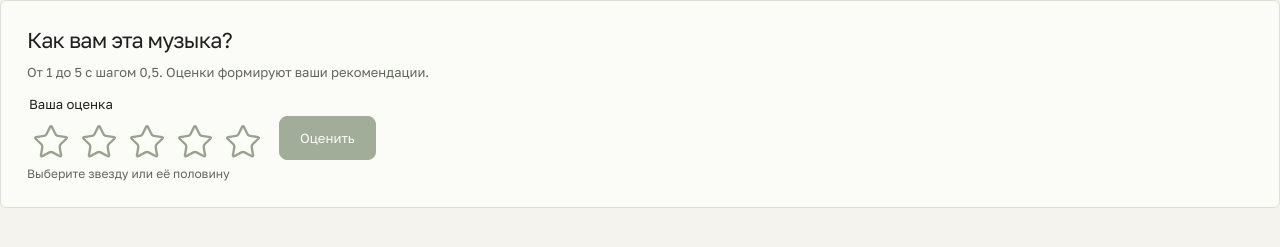
it: sends a numeric half-step and invalidates catalog, recommendations and reviews
Click the radio button named "4.5 из 5".
click(231, 142)  # box [219,118,243,166]
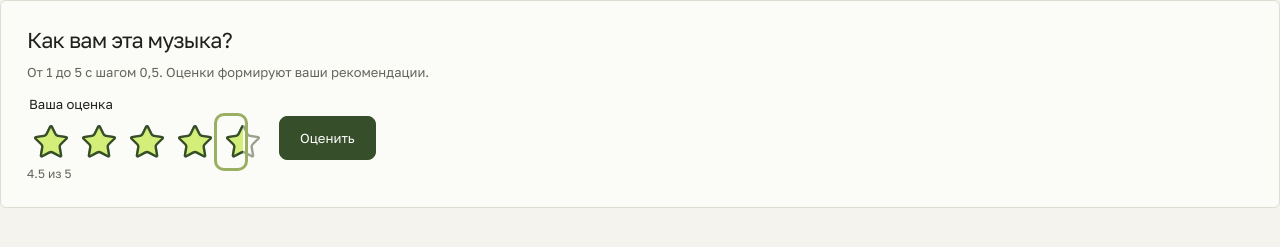
Click the button "Оценить".
click(327, 138)  # box [279,116,376,160]
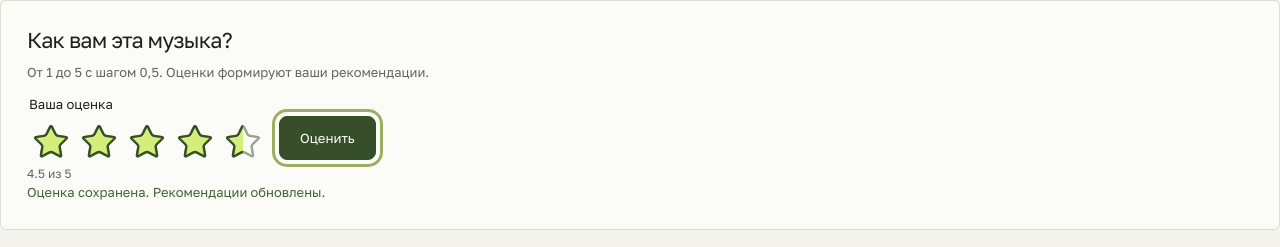
Now the message "Оценка сохранена. Рекомендации обновлены." is shown, box [27,184,325,200]
